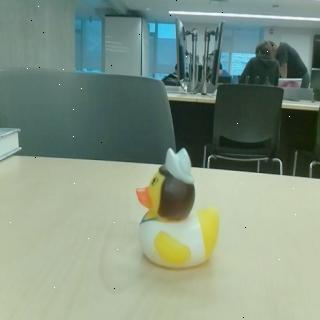duck_specialty: (135, 146, 222, 271)
